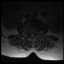CCS_stenosis: (31, 31, 33, 38)
LFS_severe_stenosis: (34, 30, 36, 35)
LLS_stenosis: (33, 31, 34, 36)
RFS_severe_stenosis: (28, 30, 30, 35)
RLS_severe_stenosis: (30, 31, 31, 36)
